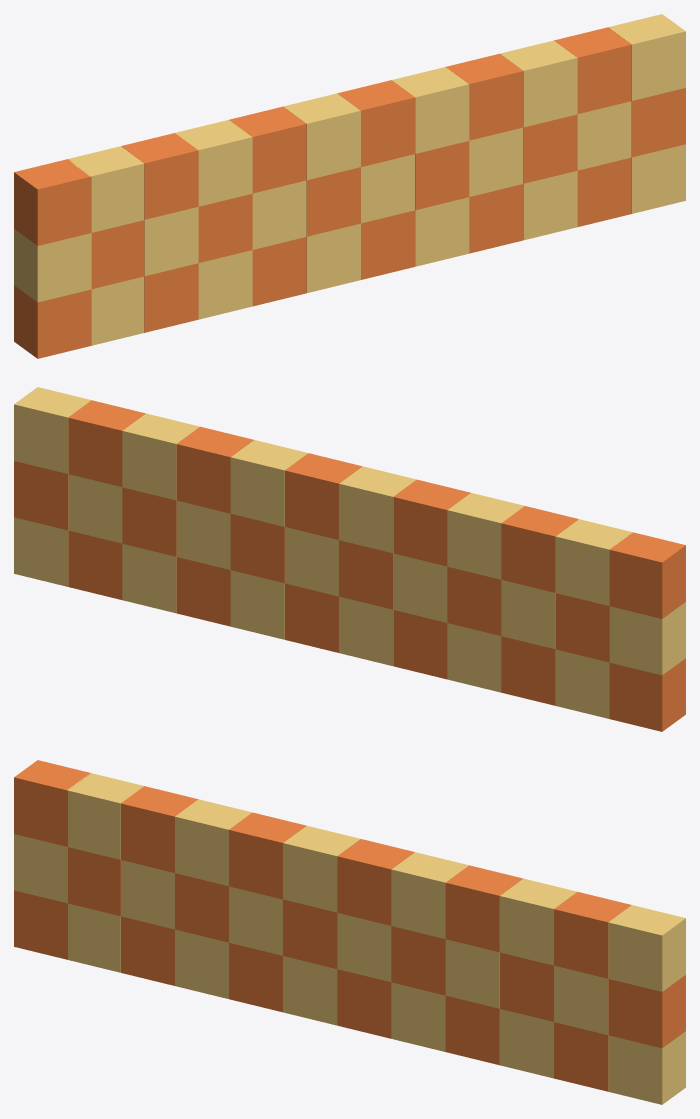
File: wall 02.fbx
3 renders of one model, top to bottom at view 1: azimuth 30°, elevation 25°; view 2: azimuth 150°, elevation 25°; view 3: azimuth 330°, elevation 25°, orthographic.
Visible parts, largest first — view 1: wall_02_0107_geo, wall_02_0108_geo, wall_02_0109_geo, wall_02_0114_geo, wall_02_0129_geo, wall_02_0135_geo, wall_02_0136_geo, wall_02_0117_geo, wall_02_0120_geo, wall_02_0123_geo, wall_02_0126_geo, wall_02_0106_geo (+24 smaller); view 2: wall_02_0107_geo, wall_02_0114_geo, wall_02_0135_geo, wall_02_0106_geo, wall_02_0120_geo, wall_02_0126_geo, wall_02_0136_geo, wall_02_0129_geo, wall_02_0117_geo, wall_02_0101_geo, wall_02_0123_geo, wall_02_0109_geo (+24 smaller); view 3: wall_02_0120_geo, wall_02_0118_geo, wall_02_0119_geo, wall_02_0129_geo, wall_02_0133_geo, wall_02_0123_geo, wall_02_0135_geo, wall_02_0126_geo, wall_02_0114_geo, wall_02_0136_geo, wall_02_0117_geo, wall_02_0106_geo (+24 smaller).
Boxes of the visible parts, x1,y1,x2,y2 form: wall_02_0107_geo: [14, 159, 91, 245]; wall_02_0108_geo: [14, 229, 91, 302]; wall_02_0109_geo: [14, 285, 91, 358]; wall_02_0114_geo: [500, 40, 577, 127]; wall_02_0129_geo: [391, 67, 469, 153]; wall_02_0135_geo: [283, 93, 360, 180]; wall_02_0136_geo: [229, 106, 306, 193]; wall_02_0117_geo: [175, 120, 252, 206]; wall_02_0120_geo: [608, 14, 685, 100]; wall_02_0123_geo: [554, 27, 631, 113]; wall_02_0126_geo: [446, 53, 523, 140]; wall_02_0106_geo: [121, 133, 198, 219]; wall_02_0107_geo: [609, 532, 685, 618]; wall_02_0114_geo: [122, 413, 199, 500]; wall_02_0135_geo: [339, 466, 416, 553]; wall_02_0106_geo: [501, 506, 578, 592]; wall_02_0120_geo: [14, 387, 91, 473]; wall_02_0126_geo: [176, 426, 253, 513]; wall_02_0136_geo: [393, 479, 470, 566]; wall_02_0129_geo: [230, 440, 308, 526]; wall_02_0117_geo: [447, 493, 524, 579]; wall_02_0101_geo: [555, 519, 632, 605]; wall_02_0123_geo: [68, 400, 145, 486]; wall_02_0109_geo: [609, 658, 685, 731]; wall_02_0120_geo: [608, 905, 685, 991]; wall_02_0118_geo: [608, 1031, 685, 1104]; wall_02_0119_geo: [608, 975, 685, 1048]; wall_02_0129_geo: [391, 852, 468, 939]; wall_02_0133_geo: [337, 839, 414, 925]; wall_02_0123_geo: [554, 892, 631, 978]; wall_02_0135_geo: [283, 826, 360, 912]; wall_02_0126_geo: [445, 865, 523, 952]; wall_02_0114_geo: [500, 878, 577, 965]; wall_02_0136_geo: [229, 812, 306, 899]; wall_02_0117_geo: [175, 799, 252, 886]; wall_02_0106_geo: [121, 786, 198, 872].
Size of the model in its own units: 34.72 by 8.67 by 2.2.
1 material, 1 textured.
